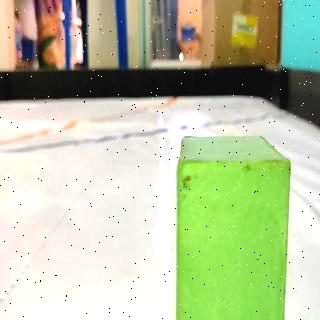greenbox: (176, 133, 292, 320)
